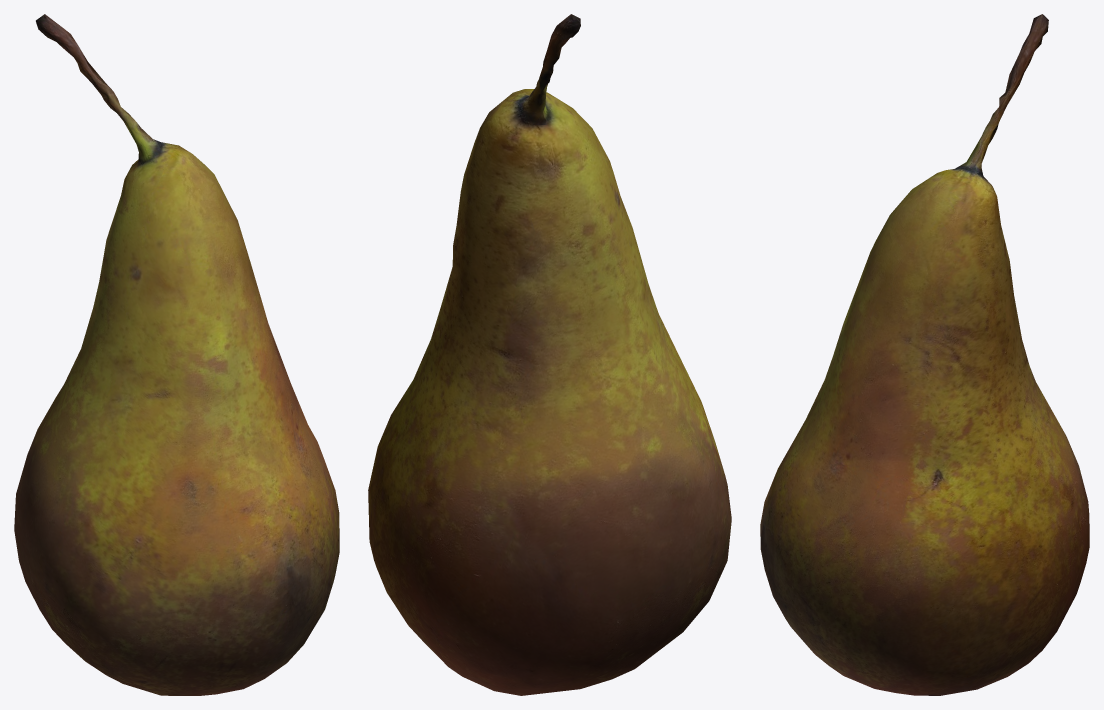
3 views of the same model, side by side, from view 1: azimuth 30°, elevation 25°; view 2: azimuth 150°, elevation 25°; view 3: azimuth 270°, elevation 25° (orthographic). The views are drawn at different scales.
Parts seen in each view (by area): view 1: pear03_lr; view 2: pear03_lr; view 3: pear03_lr.
Part boxes in pixels (left/top/right/bottom): pear03_lr: left=14, top=14, right=339, bottom=695; pear03_lr: left=368, top=14, right=731, bottom=695; pear03_lr: left=760, top=14, right=1089, bottom=695.
Bounding box in the file's own units: 0.4607 × 0.9943 × 0.477.
Materials: 1 (1 with a texture image).
